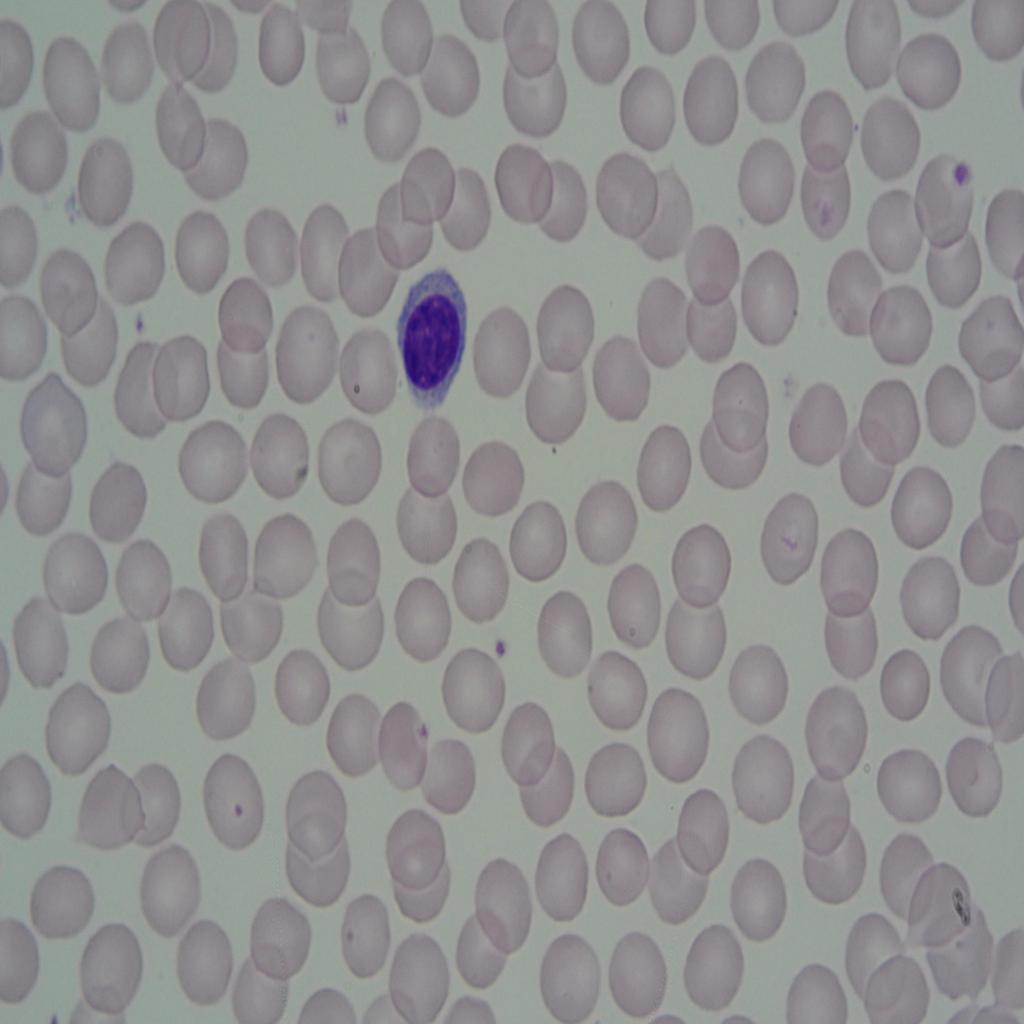Myeoblast: (396, 259, 473, 431)
Platelet: (944, 159, 975, 210), (489, 626, 514, 678), (405, 708, 430, 755), (128, 306, 154, 343), (230, 793, 250, 828)
